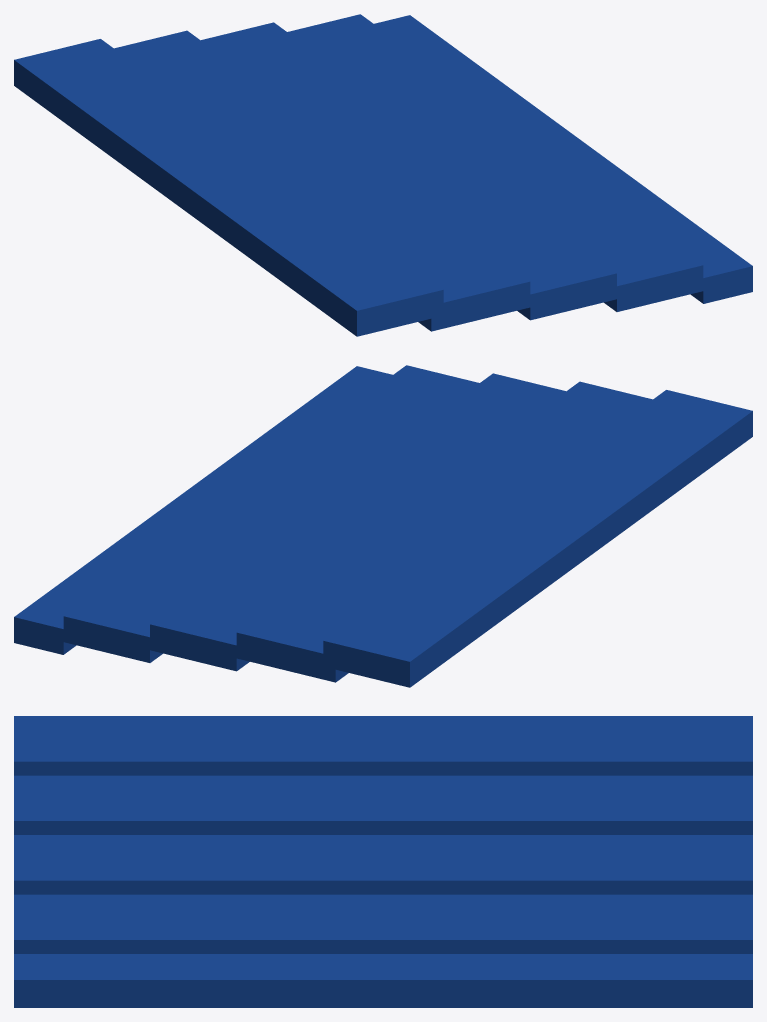
File: city_car_bonnet.glb
3 views of the same model, one above another, from view 1: azimuth 30°, elevation 25°; view 2: azimuth 150°, elevation 25°; view 3: azimuth 270°, elevation 25° (orthographic). The views are drawn at different scales.
Visible parts, largest first — view 1: body:compound; view 2: body:compound; view 3: body:compound.
Part boxes in pixels (bbox=[...]): body:compound: bbox=[14, 14, 752, 336]; body:compound: bbox=[14, 365, 752, 687]; body:compound: bbox=[14, 716, 752, 1007].
Size of the model in its own units: 1 by 0.1875 by 1.5.
